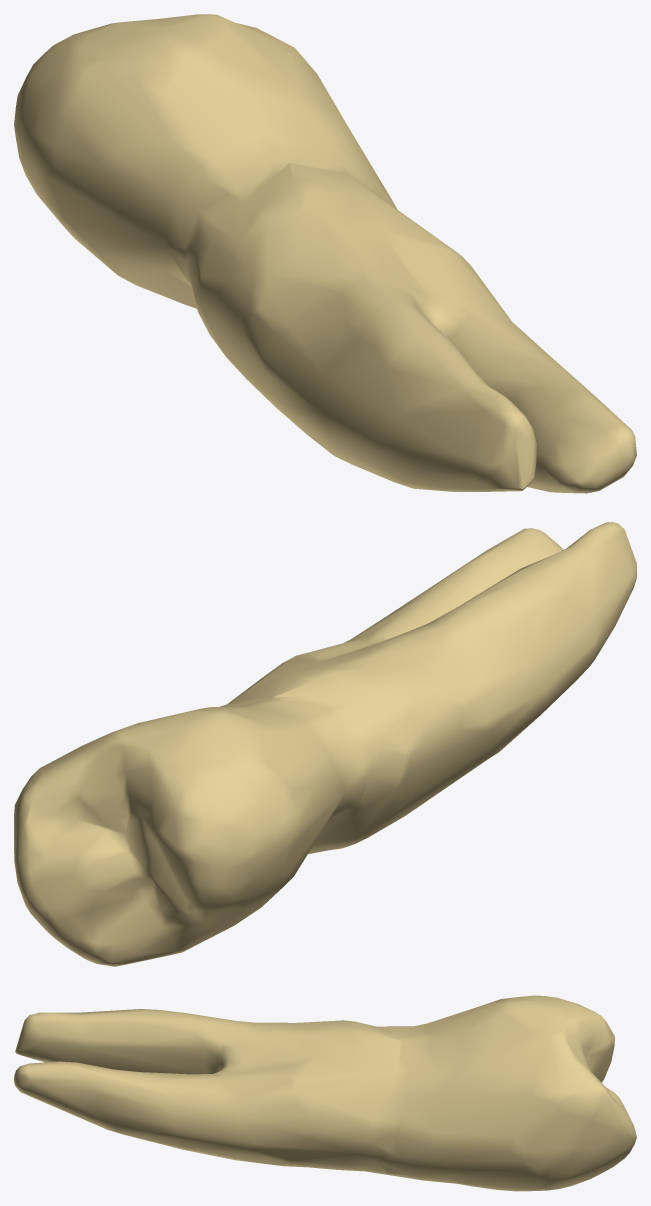
The picture shows the model from 3 angles, top to bottom: view 1: azimuth 30°, elevation 25°; view 2: azimuth 150°, elevation 25°; view 3: azimuth 270°, elevation 25°; orthographic projection. The views are drawn at different scales.
Visible parts, largest first — view 1: 左侧上颌第一前磨牙; view 2: 左侧上颌第一前磨牙; view 3: 左侧上颌第一前磨牙.
Part boxes in pixels (<box>): 左侧上颌第一前磨牙: <box>14,14,636,493</box>; 左侧上颌第一前磨牙: <box>14,522,636,966</box>; 左侧上颌第一前磨牙: <box>14,995,636,1191</box>.
Size of the model in its own units: 0.0137 by 0.0116 by 0.0409.
